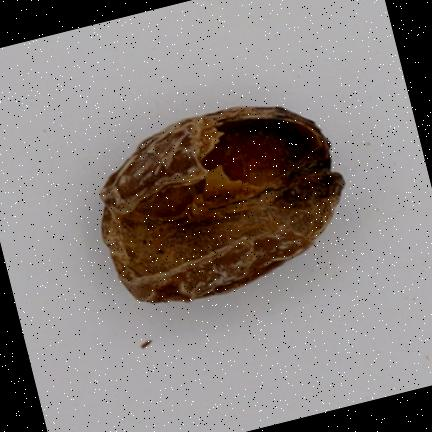husk: (101, 106, 344, 301)
